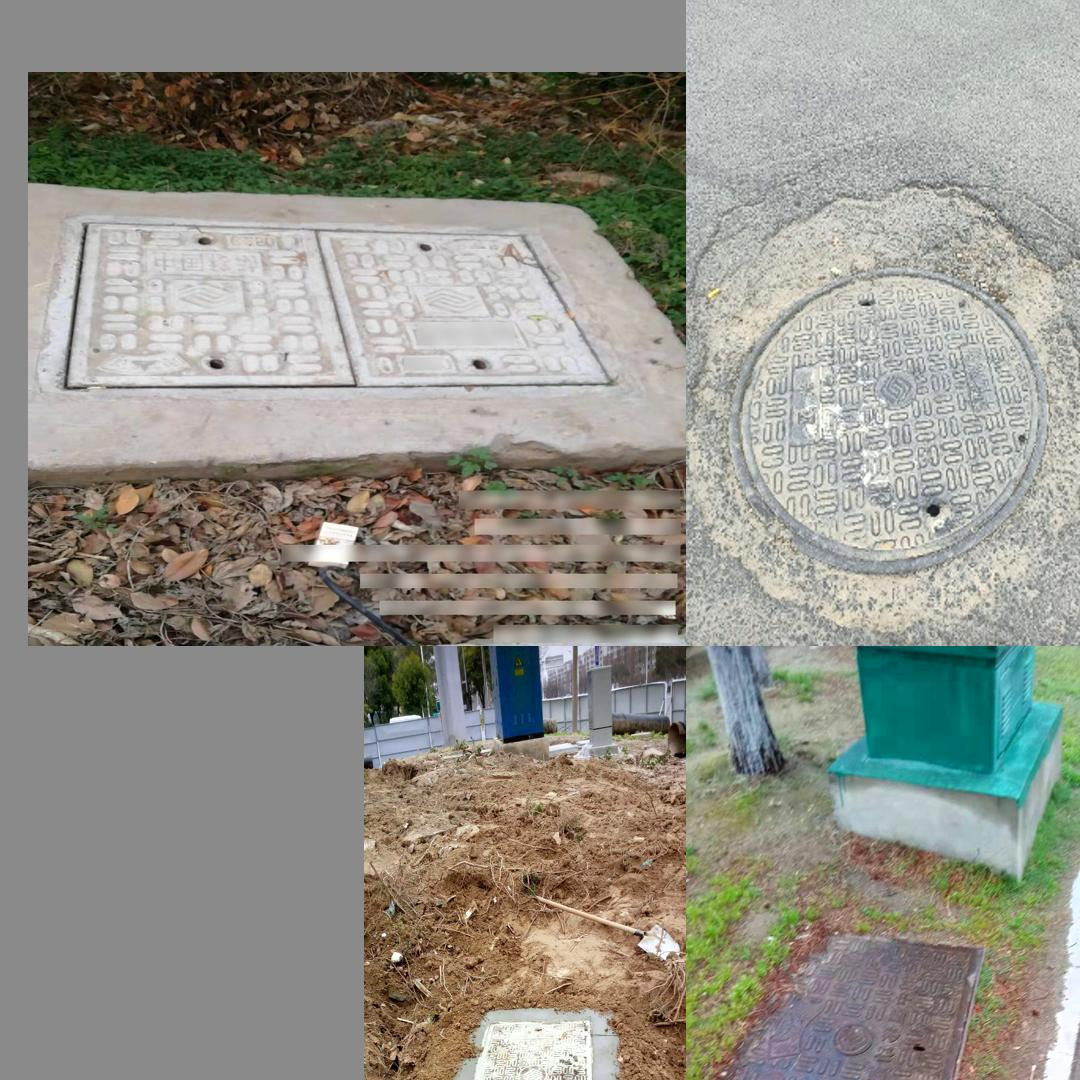good: (726, 267, 1046, 574), (49, 218, 562, 404), (698, 935, 983, 1080), (460, 1008, 597, 1080)
